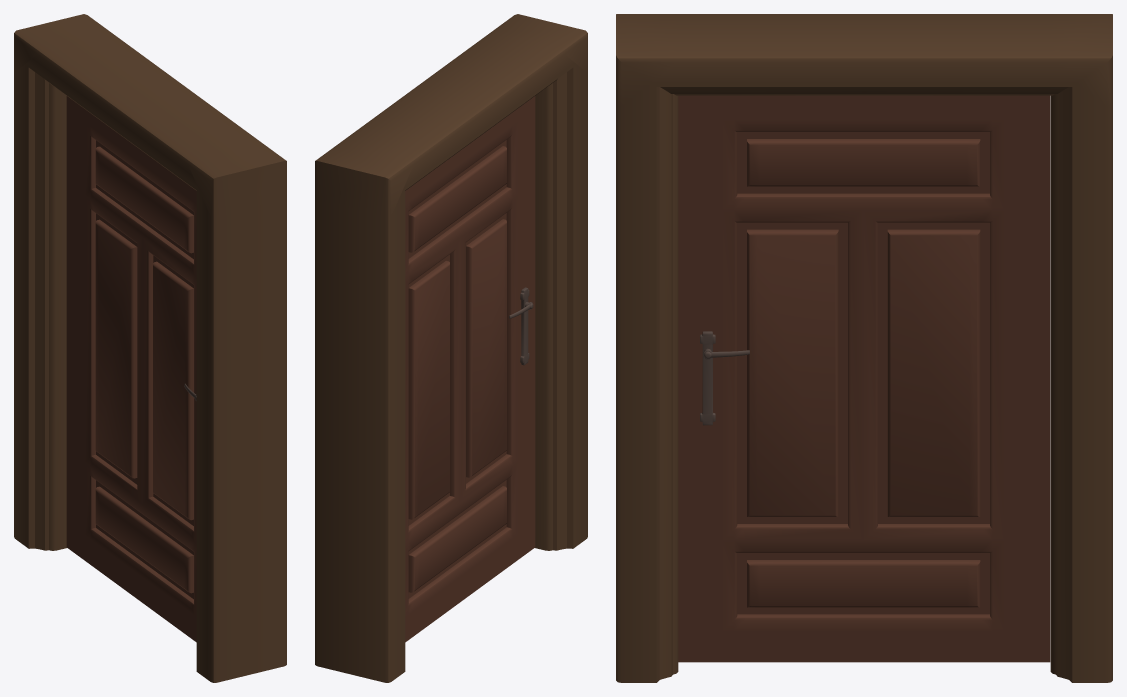
3 views of the same model, side by side, from view 1: azimuth 30°, elevation 25°; view 2: azimuth 150°, elevation 25°; view 3: azimuth 270°, elevation 25° (orthographic). The views are drawn at different scales.
Parts seen in each view (by area): view 1: Door_Frame_SA, Door_SA; view 2: Door_Frame_SA, Door_SA; view 3: Door_SA, Door_Frame_SA.
Part boxes in pixels (x1=…): Door_Frame_SA: x1=14, y1=14, x2=286, y2=682; Door_SA: x1=66, y1=96, x2=196, y2=642; Door_Frame_SA: x1=315, y1=14, x2=587, y2=682; Door_SA: x1=405, y1=96, x2=535, y2=642; Door_SA: x1=678, y1=95, x2=1050, y2=662; Door_Frame_SA: x1=616, y1=14, x2=1112, y2=682.
Size of the model in its own units: 0.359 by 2.29 by 1.65.
